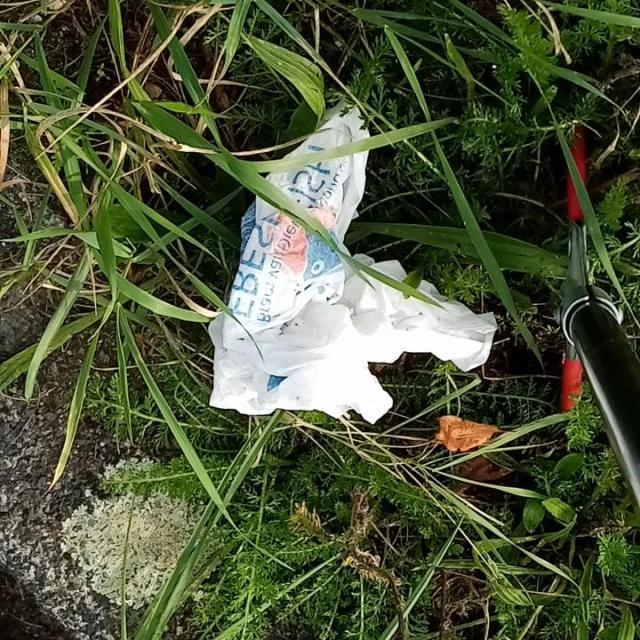Paper: (202, 97, 501, 427)
